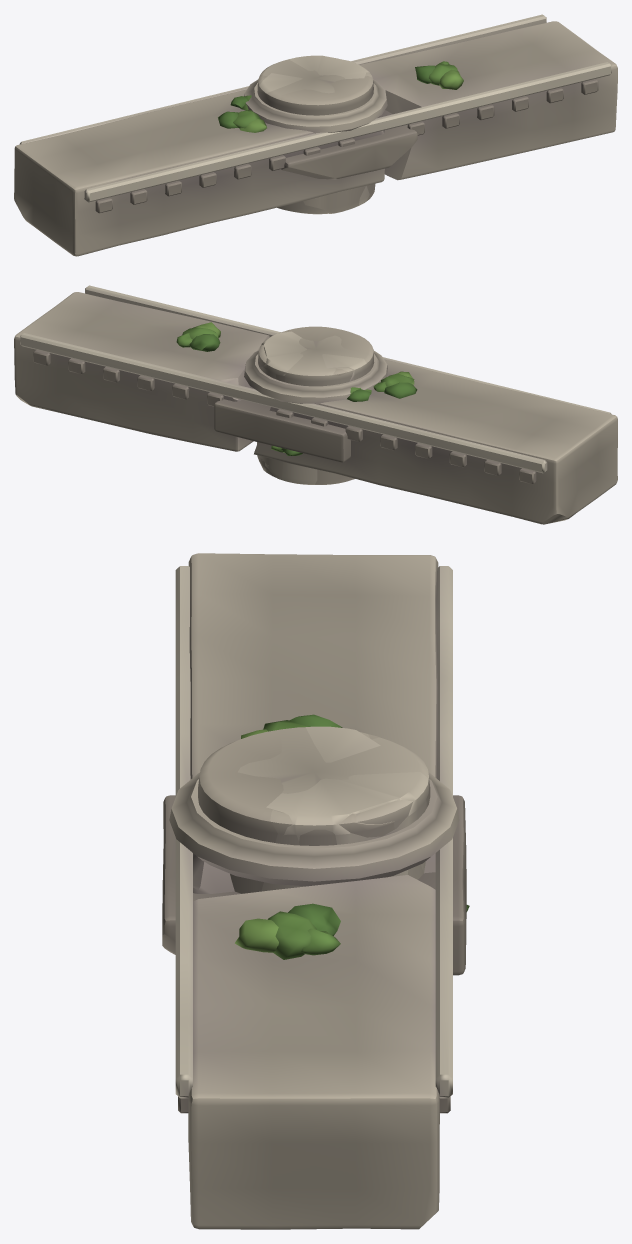
The model's file is pr_ruin.glb.
3 renders of one model, top to bottom at view 1: azimuth 30°, elevation 25°; view 2: azimuth 150°, elevation 25°; view 3: azimuth 270°, elevation 25°, orthographic. The views are drawn at different scales.
Parts seen in each view (by area): view 1: PR_ruin__lintel, PR_ruin__base, PR_ruin__drumB, PR_ruin__drumA, PR_ruin__drumC; view 2: PR_ruin__lintel, PR_ruin__base, PR_ruin__drumA, PR_ruin__drumC, PR_ruin__drumB; view 3: PR_ruin__lintel, PR_ruin__base, PR_ruin__drumB, PR_ruin__drumC, PR_ruin__drumA.
Boxes of the visible parts, bbox=[...] form: PR_ruin__lintel: bbox=[14, 14, 617, 256]; PR_ruin__base: bbox=[244, 79, 417, 179]; PR_ruin__drumB: bbox=[258, 75, 373, 213]; PR_ruin__drumA: bbox=[257, 58, 375, 214]; PR_ruin__drumC: bbox=[257, 55, 369, 205]; PR_ruin__lintel: bbox=[14, 285, 617, 524]; PR_ruin__base: bbox=[214, 350, 387, 462]; PR_ruin__drumA: bbox=[258, 331, 372, 480]; PR_ruin__drumC: bbox=[258, 331, 366, 484]; PR_ruin__drumB: bbox=[257, 326, 374, 484]; PR_ruin__lintel: bbox=[175, 553, 452, 1229]; PR_ruin__base: bbox=[162, 772, 466, 975]; PR_ruin__drumB: bbox=[198, 730, 469, 911]; PR_ruin__drumC: bbox=[266, 726, 429, 876]; PR_ruin__drumA: bbox=[238, 727, 430, 891].
Bounding box in the file's own units: 5.82 × 1.16 × 1.42.
